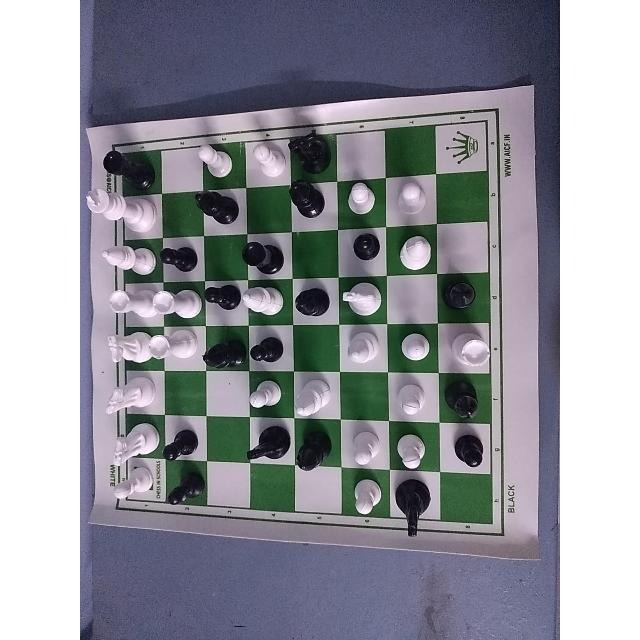black-bishop: (192, 187, 244, 228), (202, 327, 247, 371), (294, 427, 332, 475), (440, 381, 494, 414), (289, 174, 323, 226), (294, 282, 331, 326), (444, 279, 486, 309)
black-knight: (288, 130, 335, 176), (388, 483, 443, 519), (245, 426, 290, 468)
black-pawn: (159, 239, 201, 279), (162, 461, 203, 501), (160, 421, 200, 460), (254, 327, 288, 366), (207, 280, 237, 324), (346, 227, 380, 264), (449, 431, 488, 461)
black-rook: (98, 136, 149, 177), (243, 231, 289, 275)
white-bishop: (91, 244, 155, 280), (395, 231, 441, 277), (294, 371, 336, 417), (243, 280, 282, 321), (347, 335, 385, 375)
white-king: (83, 187, 157, 241)
white-knight: (107, 373, 149, 421), (109, 422, 153, 466), (341, 280, 385, 321), (106, 326, 146, 368)
white-pawn: (193, 138, 238, 186), (390, 179, 433, 219), (107, 467, 156, 501), (346, 179, 382, 223), (395, 427, 431, 471), (392, 332, 434, 368), (348, 478, 380, 525), (248, 139, 284, 179), (394, 375, 429, 416), (351, 422, 379, 472), (250, 374, 282, 410)
white-rook: (439, 324, 493, 372), (153, 284, 203, 322), (149, 325, 201, 361), (108, 283, 150, 324)
